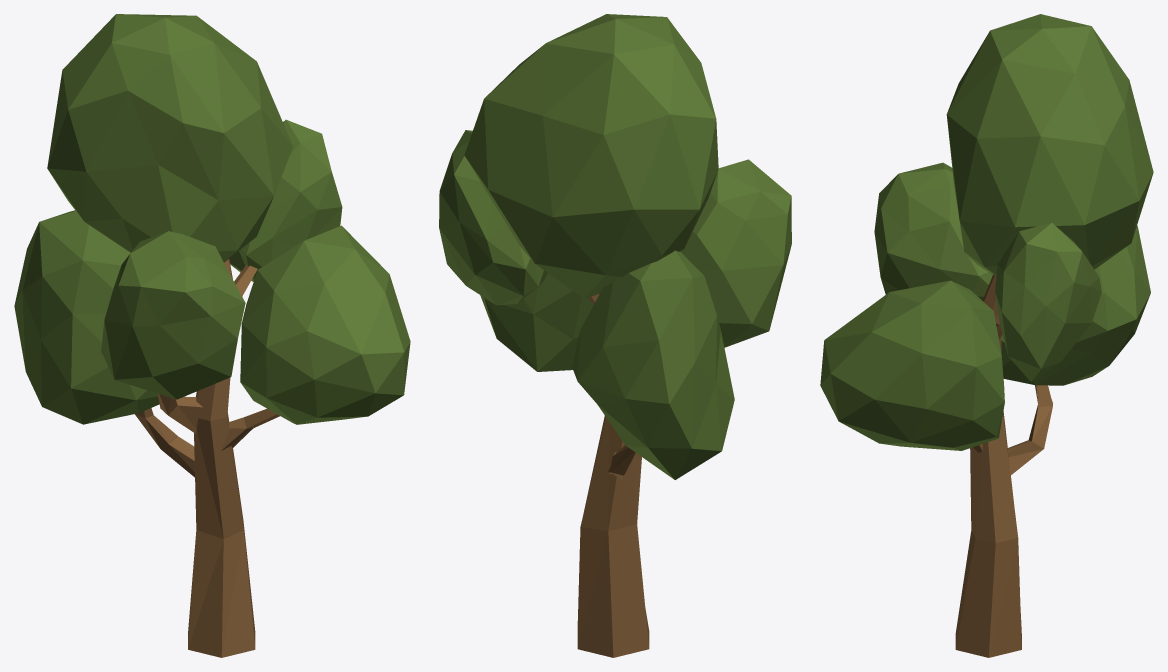
File: Tree_2_4.FBX
3 renders of one model, left to right at view 1: azimuth 30°, elevation 25°; view 2: azimuth 150°, elevation 25°; view 3: azimuth 270°, elevation 25°, orthographic. The views are drawn at different scales.
Visible parts, largest first — view 1: Tree_2_4; view 2: Tree_2_4; view 3: Tree_2_4.
Boxes of the visible parts, x1,y1,x2,y2 form: Tree_2_4: (14, 14, 410, 657); Tree_2_4: (439, 14, 791, 657); Tree_2_4: (820, 14, 1153, 657).
Size of the model in its own units: 94.12 by 193 by 97.55.
1 material, 1 textured.
